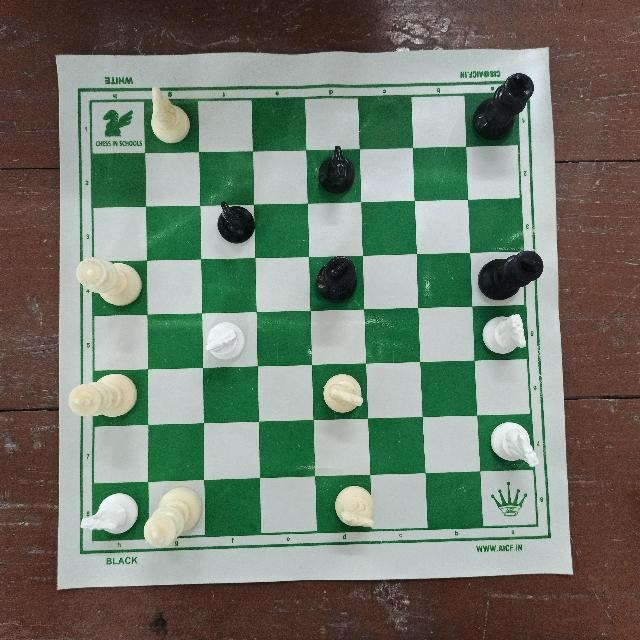black-king: (469, 66, 539, 134), (480, 239, 544, 301), (308, 256, 361, 304)
black-knight: (212, 197, 260, 255), (316, 144, 365, 198)
white-king: (143, 480, 205, 551), (65, 374, 142, 426)
white-knight: (79, 484, 142, 547), (138, 80, 196, 148), (490, 416, 543, 474), (322, 370, 376, 420), (479, 315, 533, 363), (331, 487, 378, 537), (202, 318, 247, 368)
white-queen: (68, 248, 143, 311)
